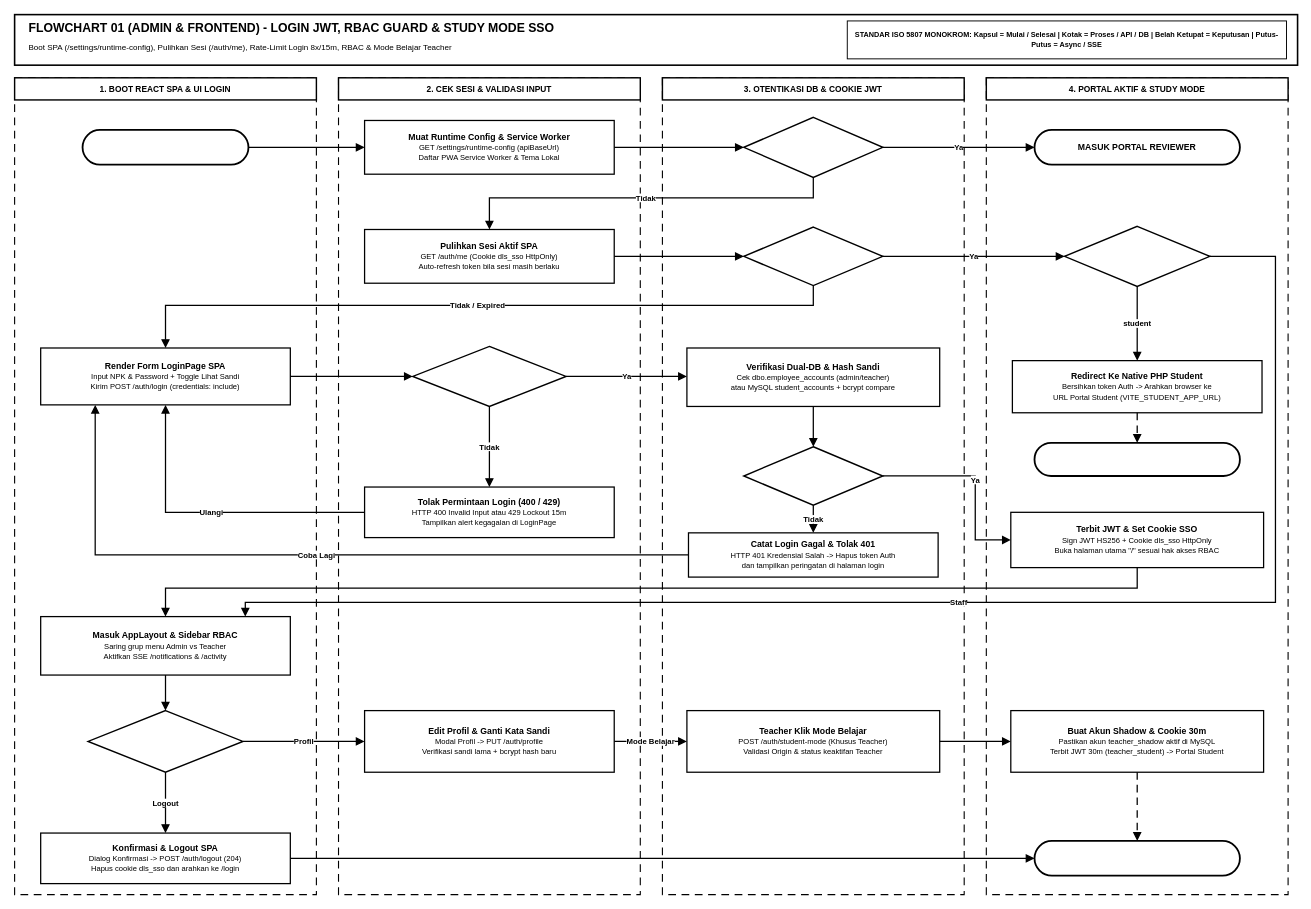
This 1311x909 diagram has some shape labels left out. The centre of each missing label's shape, as x and y in pixels:
"Aksi Akun pada Header / Sidebar?" goes at pixel 165 741.
"BUKA PORTAL SPA" goes at pixel 165 147.
"Input Valid & Limit <= 8 / 15m?" goes at pixel 489 376.
"NPK & Sandi Cocok + Aktif?" goes at pixel 813 476.
"PORTAL STUDENT :8082" goes at pixel 1136 459.
"Role Akun = student vs staff?" goes at pixel 1136 256.
"Rute URL = /review/:token?" goes at pixel 813 147.
"Sesi JWT Aktif & Valid?" goes at pixel 813 256.
"SESI PORTAL TERKELOLA" goes at pixel 1136 858.
